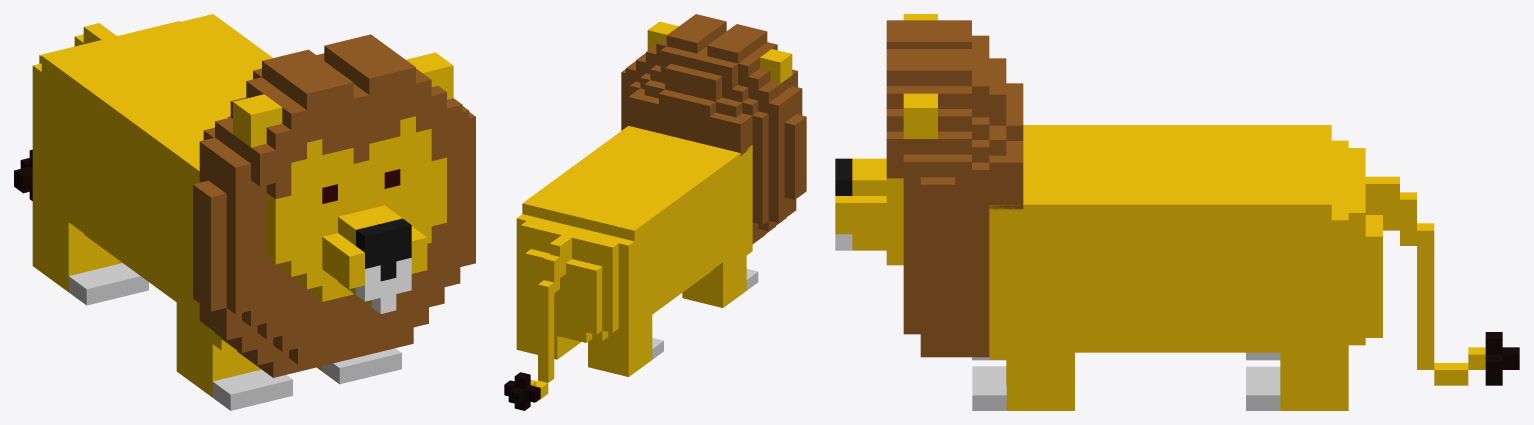
Rendered from Lion-eat.fbx.
3 views of the same model, side by side, from view 1: azimuth 30°, elevation 25°; view 2: azimuth 150°, elevation 25°; view 3: azimuth 270°, elevation 25° (orthographic). The views are drawn at different scales.
Parts seen in each view (by area): view 1: Head, Body, RIght Back leg, Right Front Leg, Left Front Leg; view 2: Body, Head, RIght Back leg, Right Front Leg, Left Back Leg; view 3: Body, Head, Left Front Leg, Left Back Leg.
Boxes of the visible parts, x1,y1,x2,y2 form: Head: (193,34,475,377); Body: (14,14,272,350); RIght Back leg: (32,212,148,305); Right Front Leg: (176,311,292,410); Left Front Leg: (317,348,401,384); Body: (504,126,752,410); Head: (621,14,806,243); RIght Back leg: (588,300,663,376); Right Front Leg: (682,216,758,307); Left Back Leg: (516,275,580,359); Body: (989,125,1519,385); Head: (835,14,1023,357); Left Front Leg: (972,344,1074,410); Left Back Leg: (1246,307,1348,410).
Bounding box in the file's own units: 170 × 217 × 400.
Materials: 1 (1 with a texture image).
